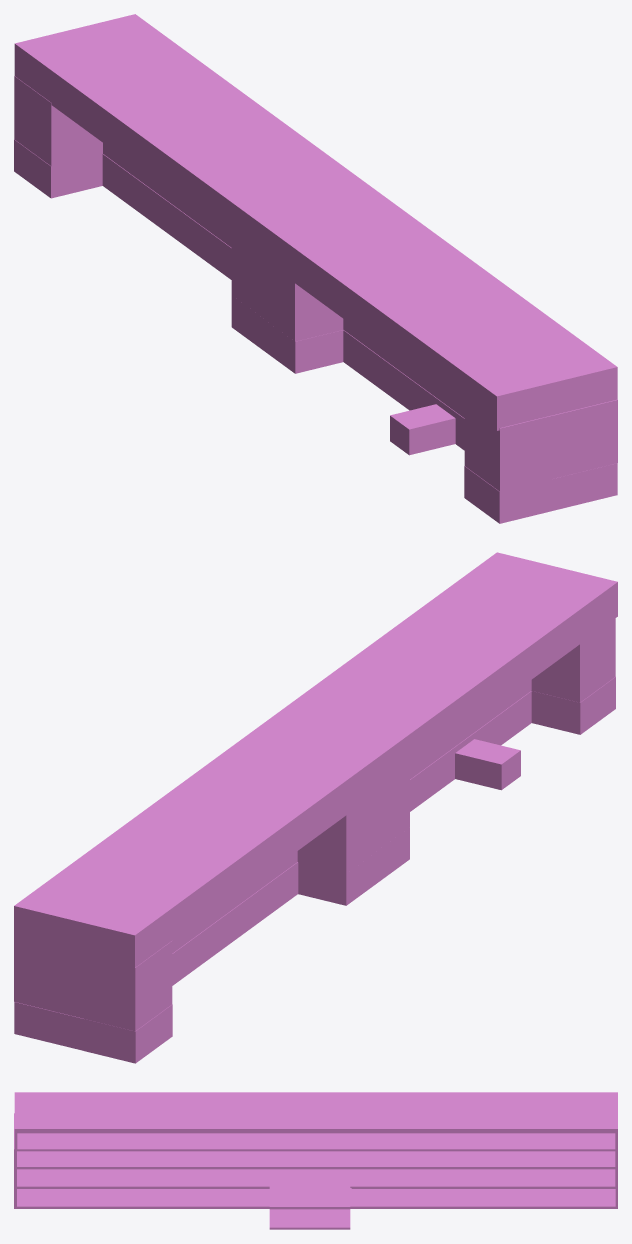
The model's file is PNC 3d model blender.glb.
The picture shows the model from 3 angles, top to bottom: view 1: azimuth 30°, elevation 25°; view 2: azimuth 150°, elevation 25°; view 3: azimuth 270°, elevation 25°; orthographic projection. The views are drawn at different scales.
Visible parts, largest first — view 1: Cube.179, Cube, Cube.028, Cube.007, Cube.031, Cube.043, Cube.059, Cube.101, Cube.085, Cube.027, Cube.174, Cube.171 (+2 smaller); view 2: Cube.179, Cube, Cube.028, Cube.007, Cube.031, Cube.043, Cube.085, Cube.173, Cube.059, Cube.027, Cube.101, Cube.172 (+2 smaller); view 3: Cube.179, Cube.028, Cube.171, Cube.178, Cube, Cube.004.
Boxes of the visible parts, x1,y1,x2,y2 form: Cube.179: (14, 14, 617, 430); Cube: (102, 154, 617, 511); Cube.028: (103, 143, 617, 479); Cube.007: (231, 295, 343, 373); Cube.031: (231, 263, 343, 341); Cube.043: (14, 139, 102, 198); Cube.059: (464, 466, 548, 523); Cube.101: (464, 434, 548, 491); Cube.085: (14, 107, 102, 166); Cube.027: (390, 404, 455, 455); Cube.174: (464, 408, 551, 460); Cube.171: (548, 399, 617, 448); Cube.179: (14, 552, 617, 969); Cube: (14, 691, 531, 1050); Cube.028: (14, 680, 531, 1018); Cube.007: (298, 827, 409, 905); Cube.031: (297, 795, 409, 873); Cube.043: (83, 1004, 172, 1063); Cube.085: (83, 972, 172, 1031); Cube.173: (83, 941, 172, 999); Cube.059: (531, 677, 615, 734); Cube.027: (455, 739, 520, 790); Cube.101: (531, 645, 615, 702); Cube.172: (319, 769, 409, 841); Cube.179: (14, 1092, 617, 1150); Cube.028: (14, 1169, 617, 1188); Cube.171: (14, 1129, 617, 1169); Cube.178: (17, 1133, 615, 1151); Cube: (14, 1188, 617, 1208); Cube.004: (269, 1185, 350, 1229).
Bounding box in the file's own units: 59.94 × 37.31 × 208.
